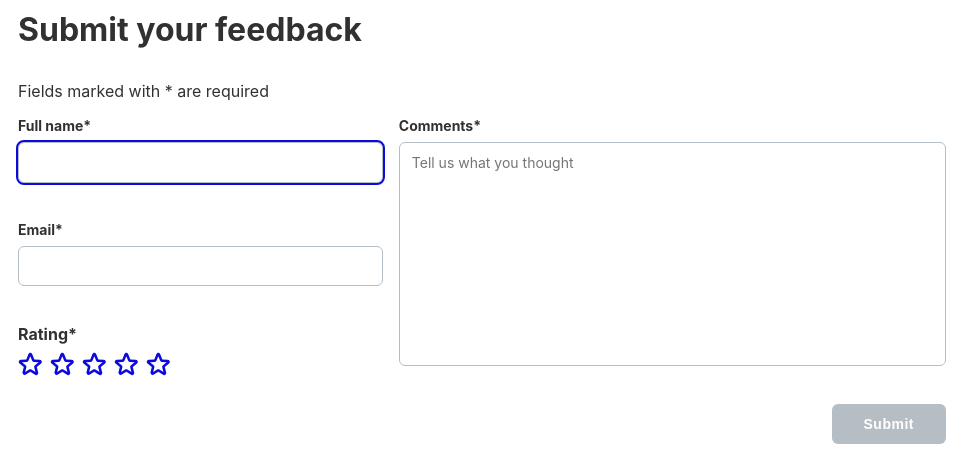
Happy path › skips form
The image size is (965, 461).
Expected: the text "Full name*" is shown, [18,117,383,171]
Click the text "Email*". click: (201, 248)
box: [18,221,383,275]
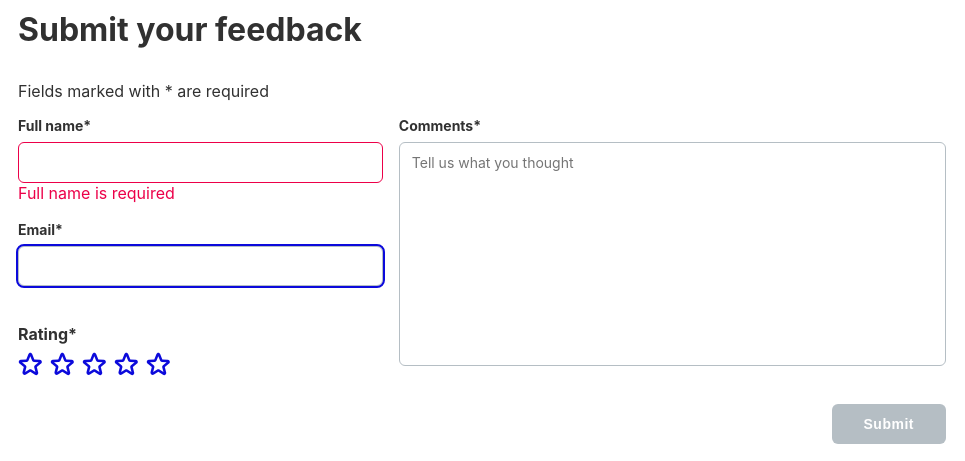
Expected: the text "Full name is required" is shown, [18,182,175,202]
Click the text "Rating*". click: (48, 334)
box: [18,324,77,344]
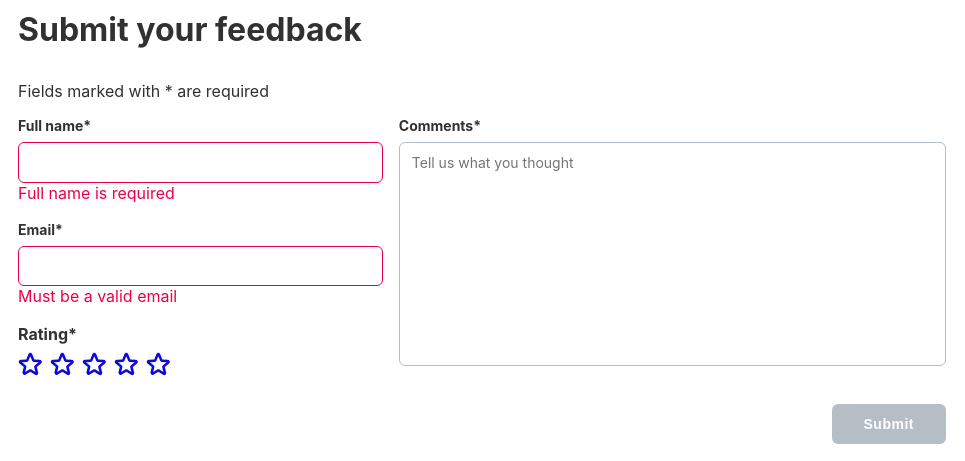
Expected: the text "Must be a valid email" is shown, [18,286,177,306]
Focus the 1st radio button. click: (30, 368)
box: [18,353,42,382]
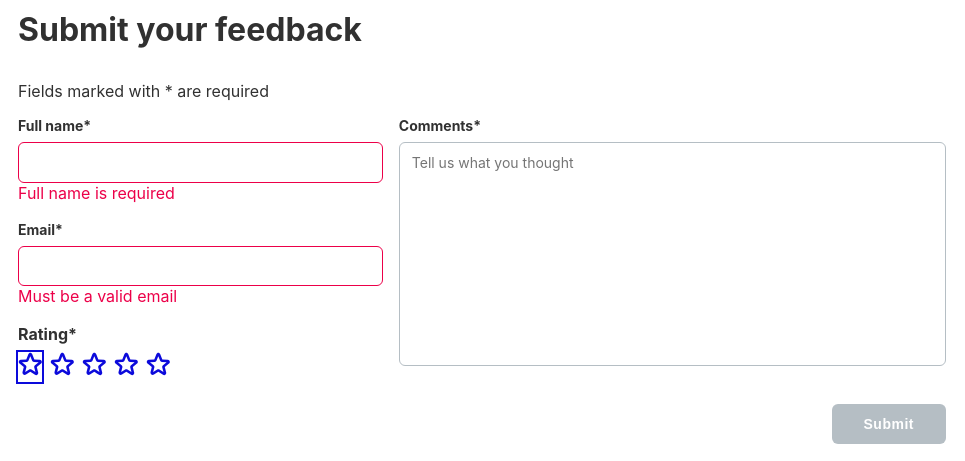
Click the text "Comments*". click: (673, 242)
box: [399,117,946,366]
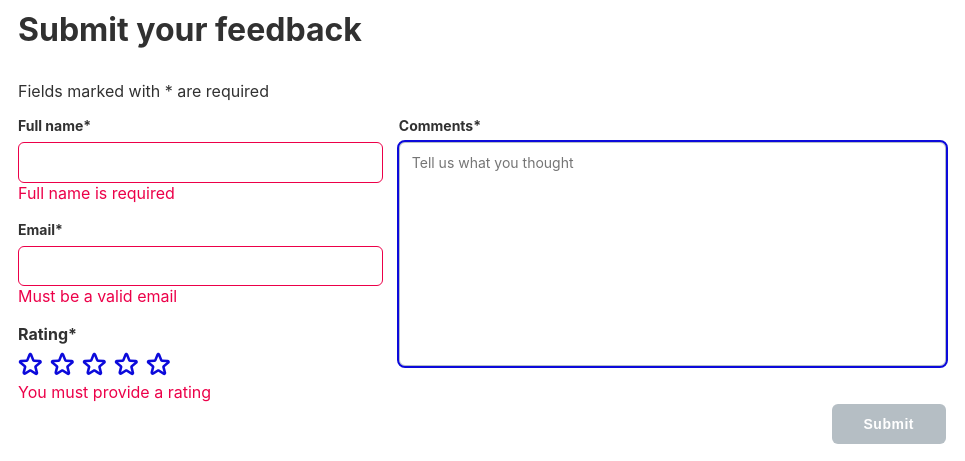
Expected: the button "Submit" is disabled, [832,404,947,444]
Expected: the text "You must provide a rating" is shown, [18,382,211,402]
Click the text "Full name*". click: (201, 144)
box: [18,117,383,171]
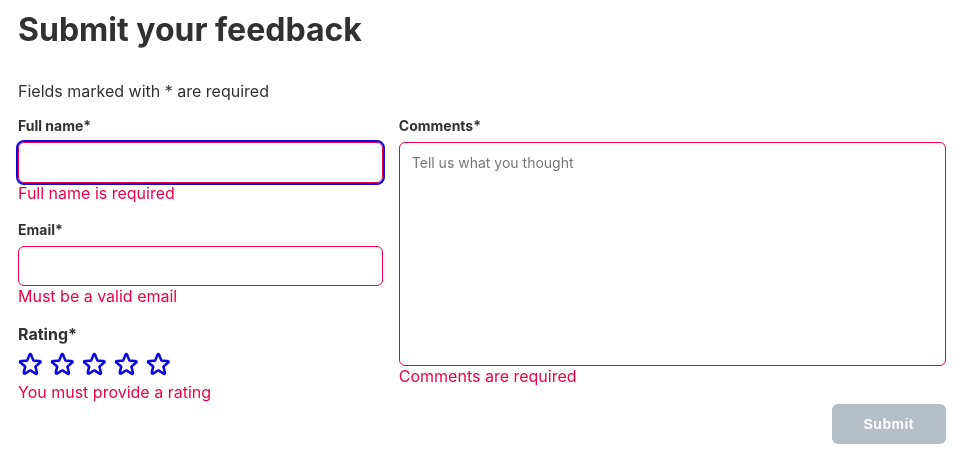
Expected: the text "Comments are required" is shown, [399,366,577,386]
